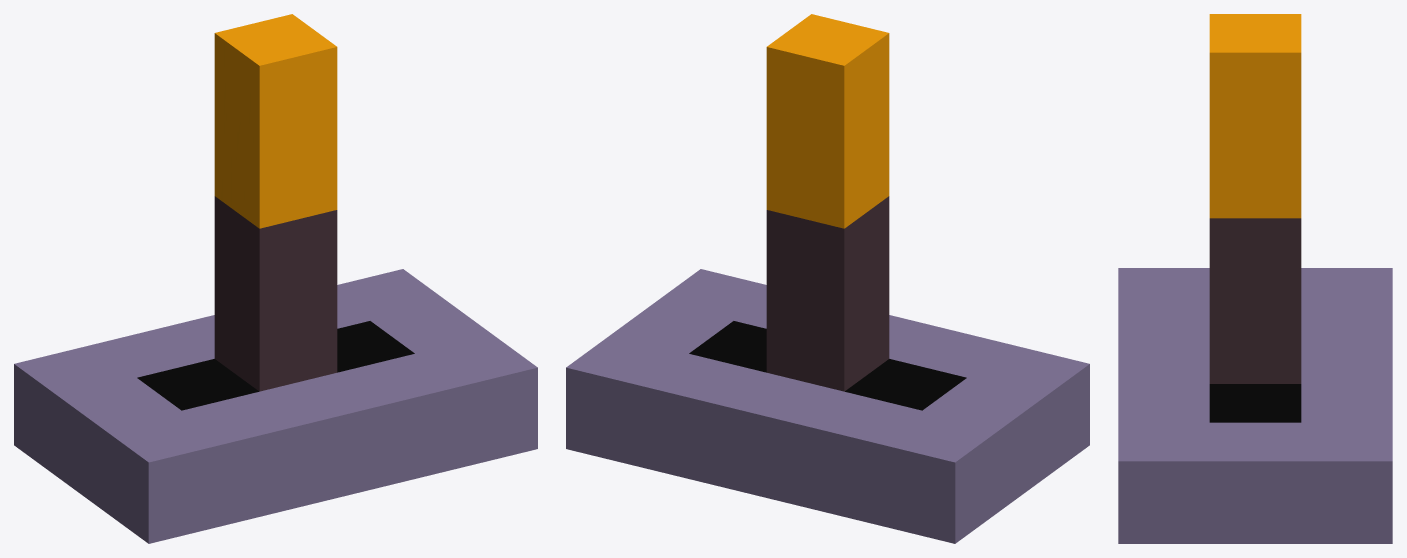
Rendered from lever_a_b_yellow_off.obj.
The picture shows the model from 3 angles, left to right: view 1: azimuth 30°, elevation 25°; view 2: azimuth 150°, elevation 25°; view 3: azimuth 270°, elevation 25°; orthographic projection.
Bounding box in the file's own units: 0.5 × 0.5 × 0.3.
Materials: 1 (1 with a texture image).
